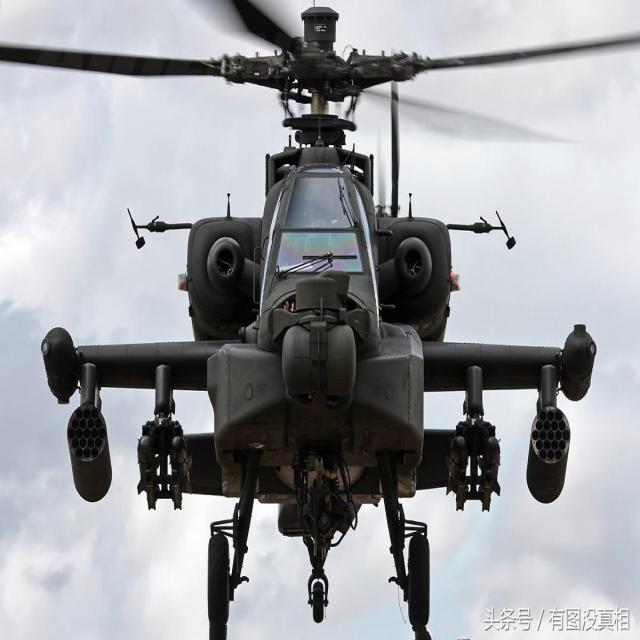MIL_HELO: (18, 0, 585, 640)
